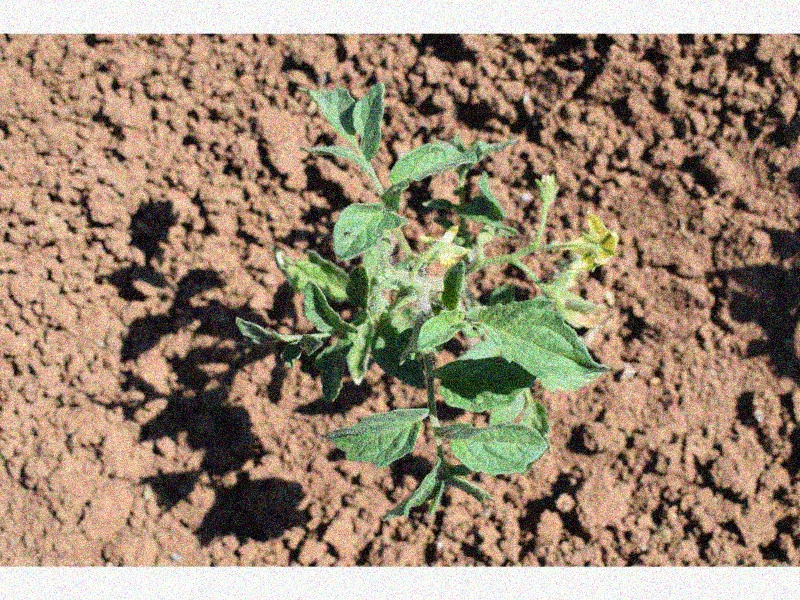tomato: (241, 79, 614, 523)
